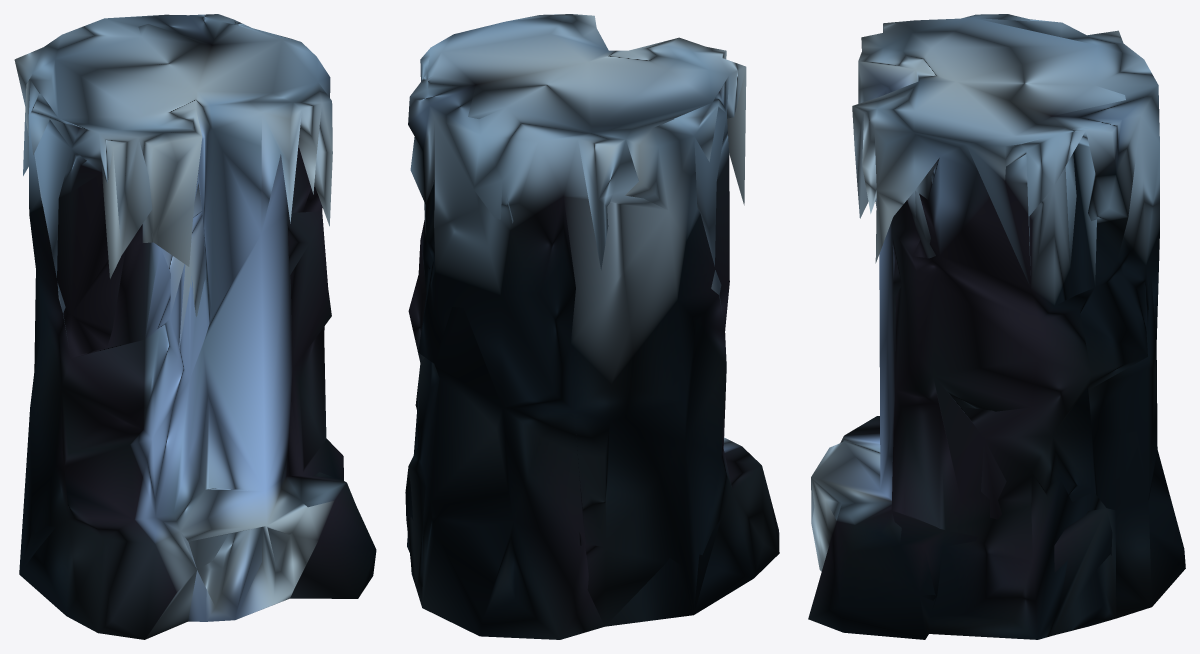
Rendered from gen3d-frozen-waterfall-lod1.glb.
3 renders of one model, left to right at view 1: azimuth 30°, elevation 25°; view 2: azimuth 150°, elevation 25°; view 3: azimuth 270°, elevation 25°, orthographic. The views are drawn at different scales.
Visible parts, largest first — view 1: part_0; view 2: part_0; view 3: part_0.
Boxes of the visible parts, x1,y1,x2,y2 form: part_0: (14, 14, 376, 639); part_0: (405, 14, 779, 639); part_0: (808, 14, 1185, 639).
Size of the model in its own units: 0.6175 by 0.9948 by 0.6866.
